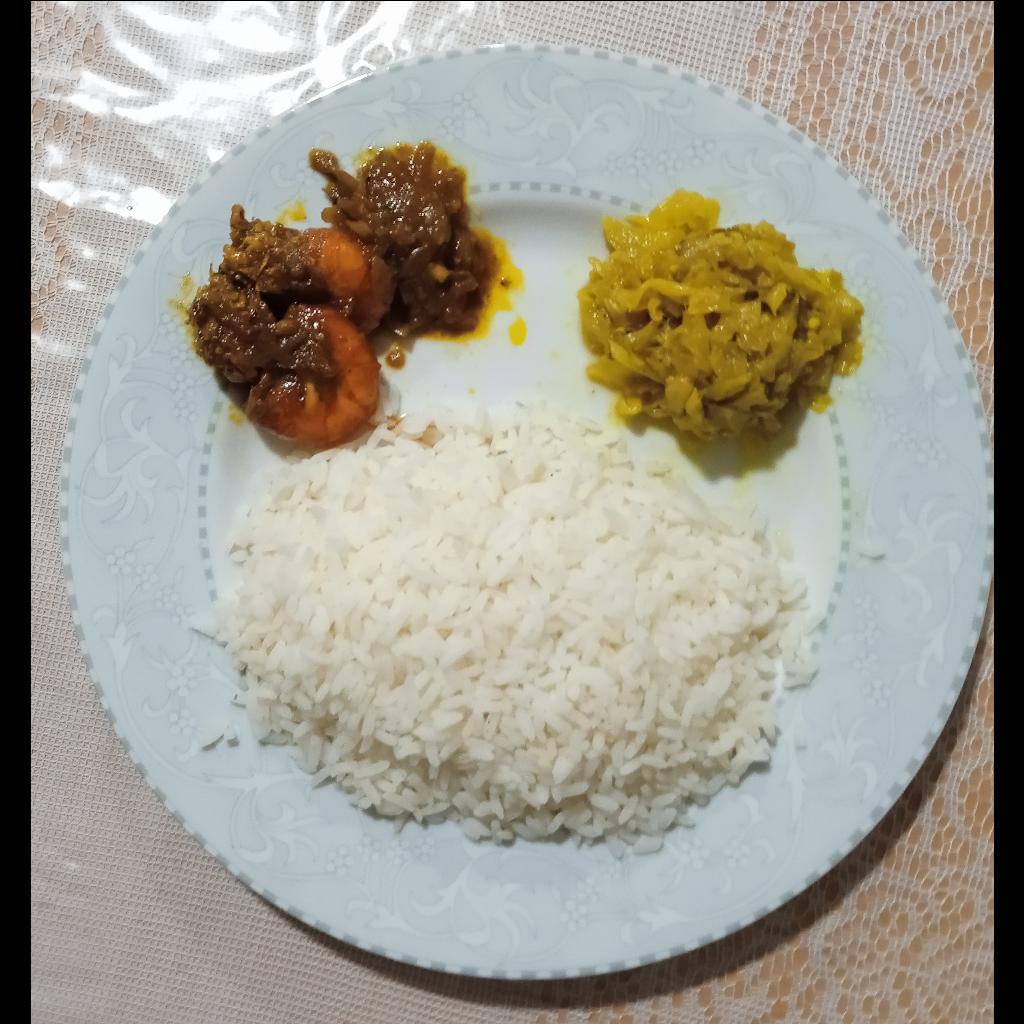cabbage: (574, 187, 858, 433)
fish: (206, 149, 490, 440)
rice: (186, 402, 782, 851)
